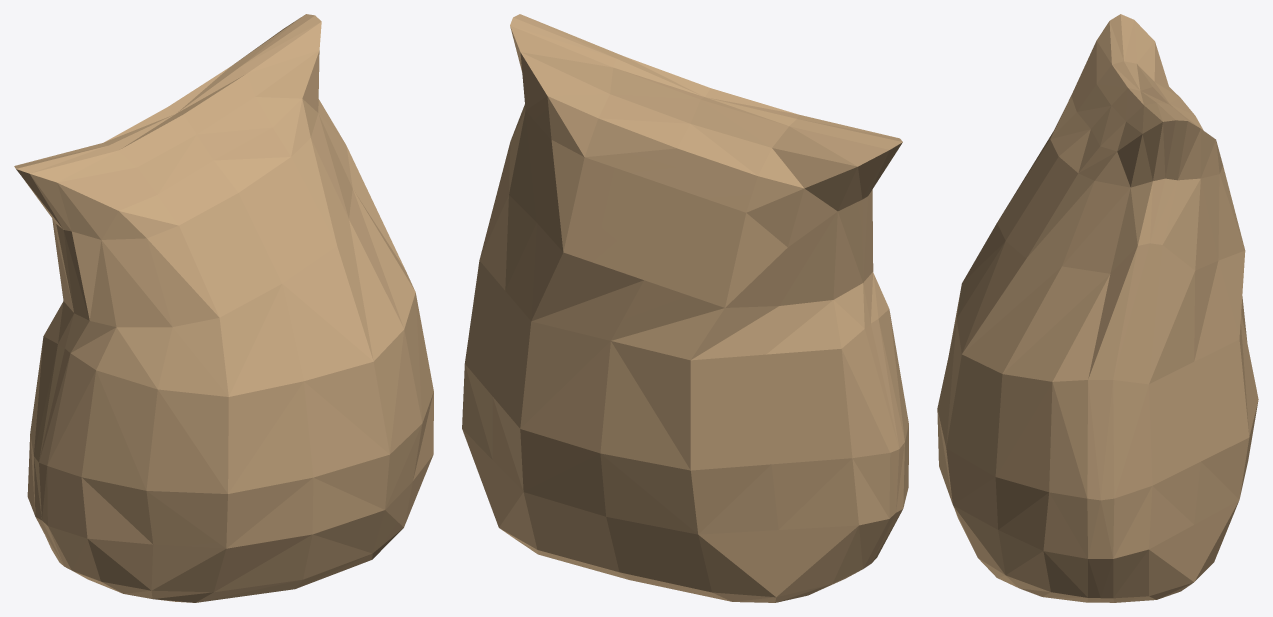
File: Prop_Bag_Grain_01.fbx
The picture shows the model from 3 angles, left to right: view 1: azimuth 30°, elevation 25°; view 2: azimuth 150°, elevation 25°; view 3: azimuth 270°, elevation 25°; orthographic projection. The views are drawn at different scales.
Parts seen in each view (by area): view 1: Prop_Bag_Grain_01; view 2: Prop_Bag_Grain_01; view 3: Prop_Bag_Grain_01.
Boxes of the visible parts, left/top/right/bottom form: Prop_Bag_Grain_01: left=14, top=14, right=433, bottom=602; Prop_Bag_Grain_01: left=462, top=14, right=908, bottom=602; Prop_Bag_Grain_01: left=937, top=14, right=1258, bottom=602.
Size of the model in its own units: 731 by 835 by 508.
